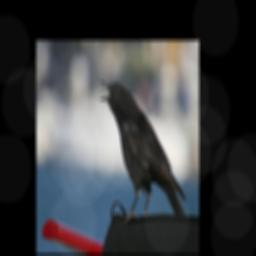Crow: (98, 78, 187, 227)
